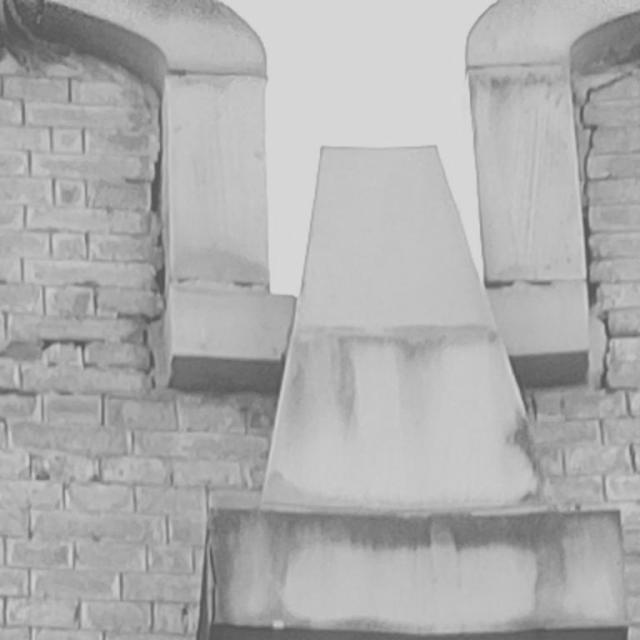crack: (579, 69, 635, 395), (141, 103, 166, 390)
